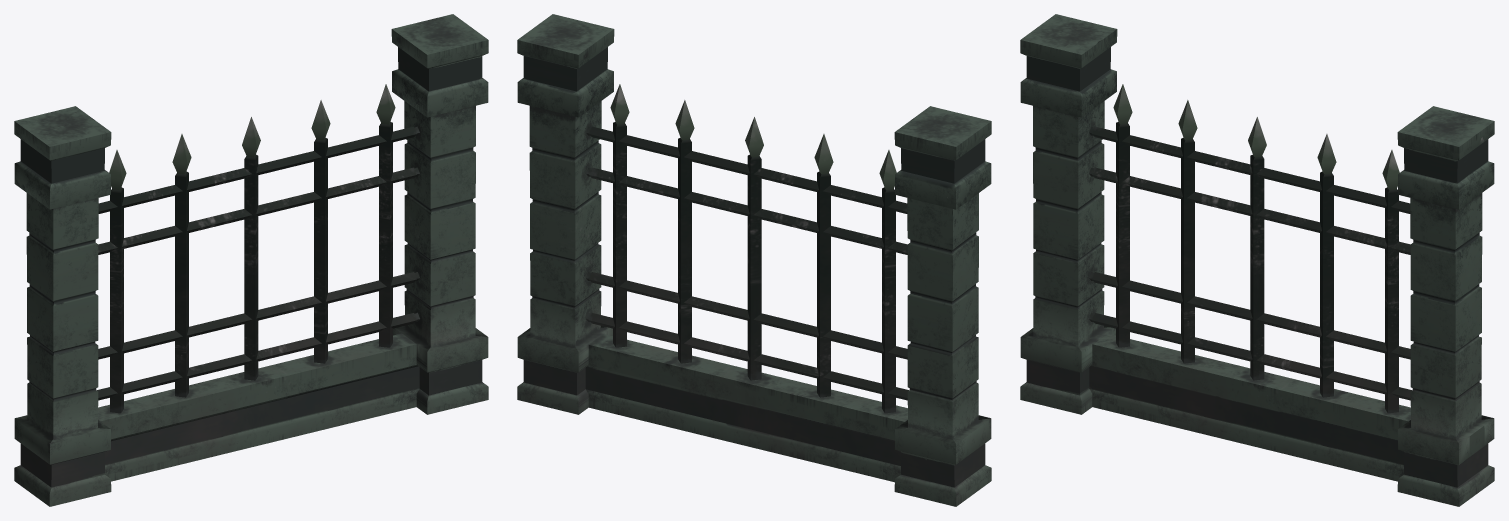
Rendered from fence.fbx.
The picture shows the model from 3 angles, left to right: view 1: azimuth 30°, elevation 25°; view 2: azimuth 150°, elevation 25°; view 3: azimuth 330°, elevation 25°; orthographic projection.
Parts seen in each view (by area): view 1: pCube22; view 2: pCube22; view 3: pCube22.
Boxes of the visible parts, bbox=[...] form: pCube22: bbox=[14, 14, 488, 506]; pCube22: bbox=[517, 14, 991, 506]; pCube22: bbox=[1020, 14, 1494, 506].
Size of the model in its own units: 60.46 by 47.39 by 8.46.
